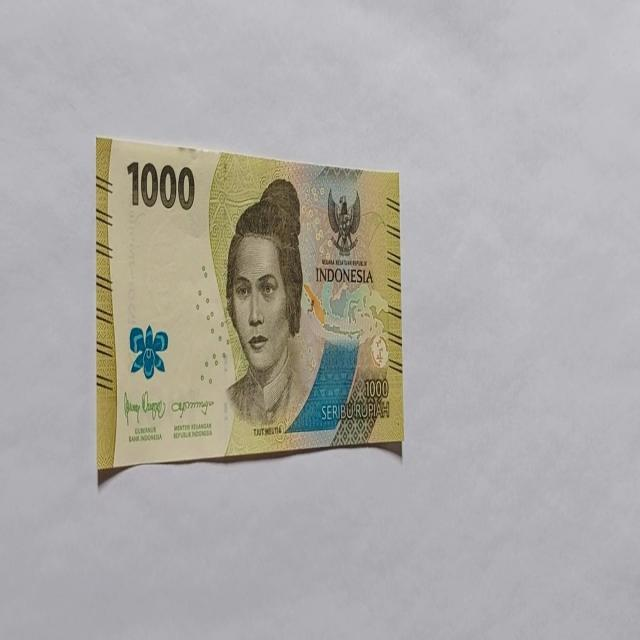seribu rupiah kertas: (95, 134, 403, 474)
